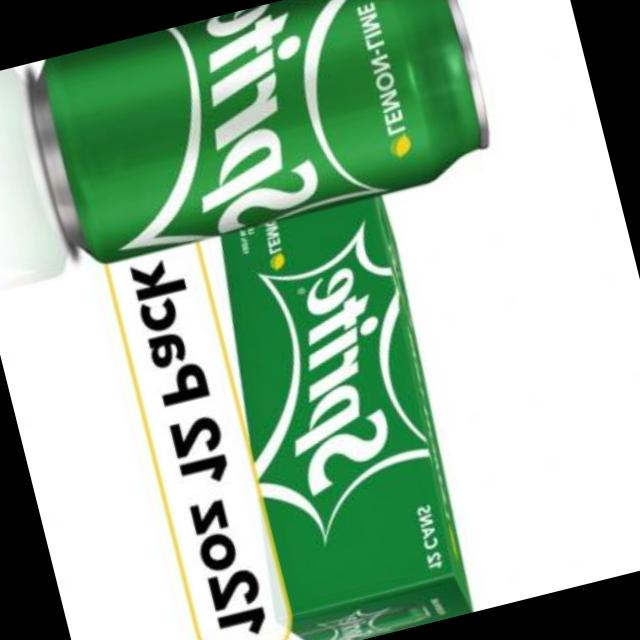metal: (34, 0, 489, 263)
